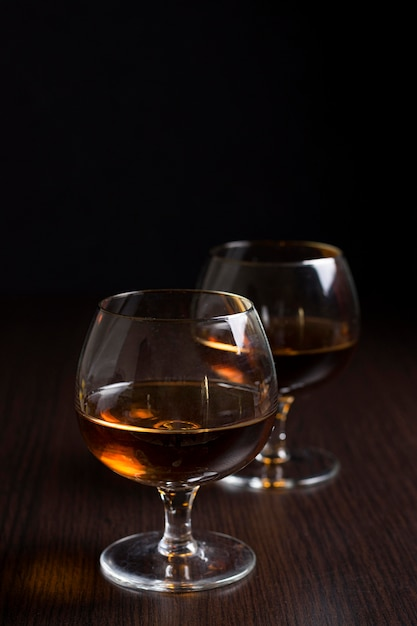alcohol: (65, 283, 280, 595), (196, 241, 354, 494)
